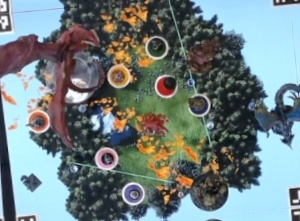blue: (184, 90, 210, 116)
green: (143, 34, 169, 60)
orange: (25, 107, 51, 134)
pink: (90, 144, 120, 171)
red: (149, 71, 179, 99)
violet: (119, 178, 145, 205)
yellow: (103, 61, 131, 89)
